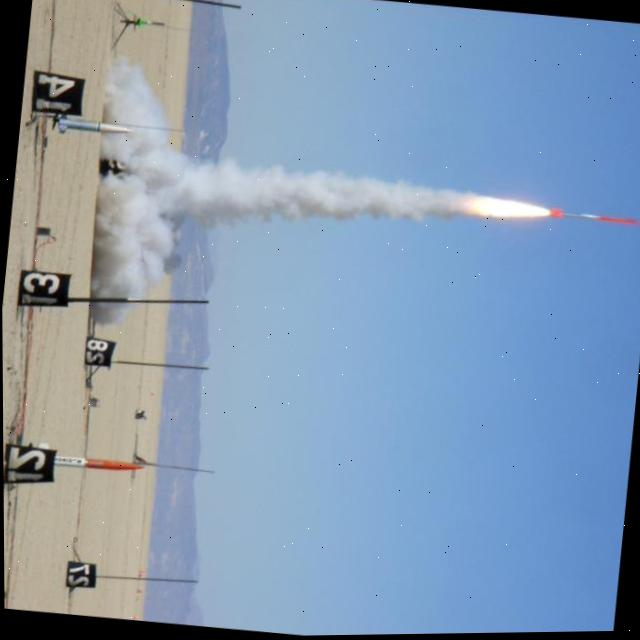missile: (3, 435, 148, 488), (539, 192, 640, 246), (54, 107, 131, 146), (126, 12, 171, 39)
